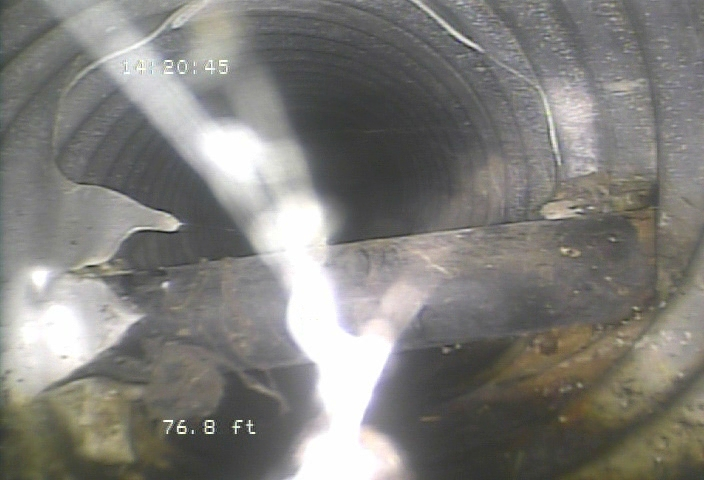cb: (41, 194, 684, 383)
